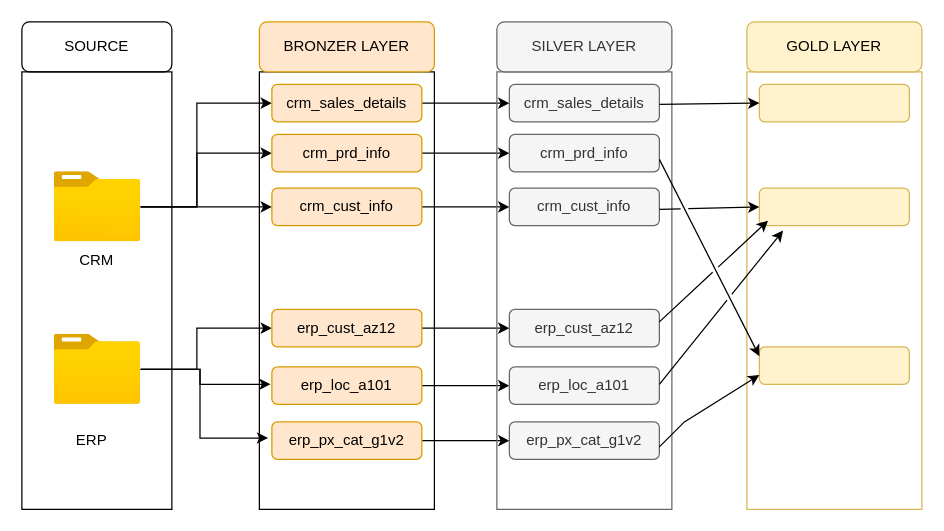
Image size: 944x531. Some labels were removed from this diagram. The shapes that lost their labels are listed below. From the top down, each one's centre as x and y in pixels, then its label:
At point 833,102: "fact_sales".
At point 833,206: "dim_customer".
At point 833,365: "dim_product".
